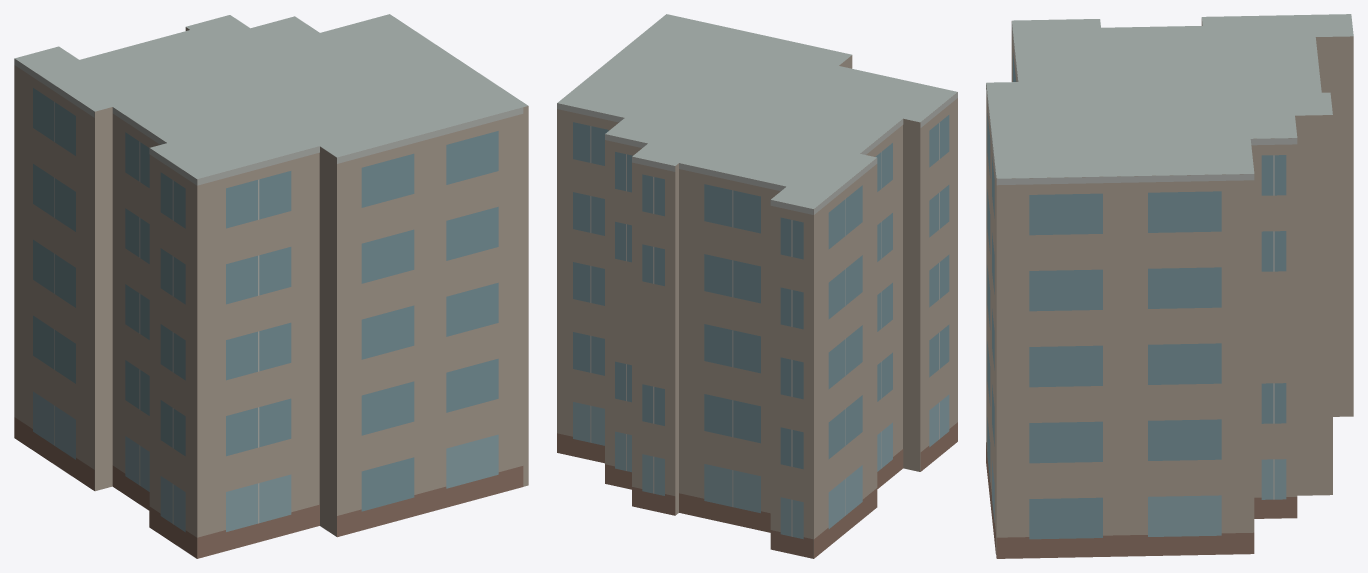
Rendered from survey-upis-32611085.glb.
3 views of the same model, side by side, from view 1: azimuth 30°, elevation 25°; view 2: azimuth 150°, elevation 25°; view 3: azimuth 270°, elevation 25° (orthographic). The views are drawn at different scales.
Parts seen in each view (by area): view 1: survey-upis-32611085.tmp; view 2: survey-upis-32611085.tmp; view 3: survey-upis-32611085.tmp.
Part boxes in pixels (x1,y1,x2,y2): survey-upis-32611085.tmp: [14, 14, 528, 558]; survey-upis-32611085.tmp: [557, 14, 957, 558]; survey-upis-32611085.tmp: [986, 14, 1353, 558].
Size of the model in its own units: 13.39 by 14.4 by 12.63.
